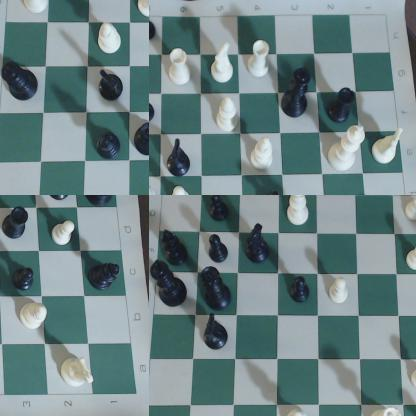black-bishop: (150, 260, 193, 313), (158, 229, 194, 269), (90, 260, 121, 292), (97, 132, 122, 163)
black-king: (1, 58, 41, 103), (282, 68, 311, 119)
black-knight: (243, 221, 275, 269), (166, 140, 194, 180), (197, 316, 229, 348), (99, 70, 126, 102)
black-pawn: (200, 235, 235, 265), (208, 196, 235, 226), (291, 275, 315, 307), (13, 266, 40, 292), (150, 9, 158, 43), (150, 93, 157, 128), (263, 189, 283, 195)
black-queen: (203, 265, 236, 316), (135, 118, 149, 159), (86, 196, 129, 206)
black-rook: (1, 205, 33, 244), (326, 88, 359, 124)
white-bishop: (17, 300, 49, 334), (217, 95, 241, 136), (247, 138, 274, 174), (285, 196, 312, 230), (97, 22, 122, 56), (286, 410, 314, 416)
white-king: (326, 125, 368, 173)
white-knight: (62, 349, 99, 393), (373, 128, 405, 169), (211, 43, 236, 87), (135, 1, 149, 18)
white-pawn: (48, 215, 78, 246), (329, 275, 354, 307), (404, 240, 416, 274), (404, 196, 416, 222), (167, 187, 196, 195)
white-queen: (370, 403, 404, 416)
white-rook: (245, 38, 275, 81), (167, 47, 193, 90), (17, 1, 55, 19), (406, 365, 416, 394)
